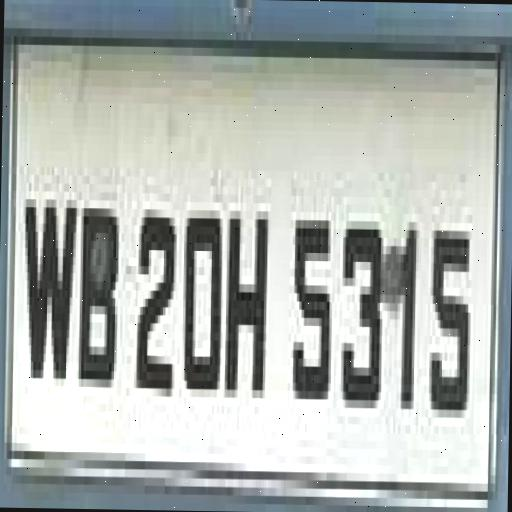number plate: (0, 36, 493, 499)
